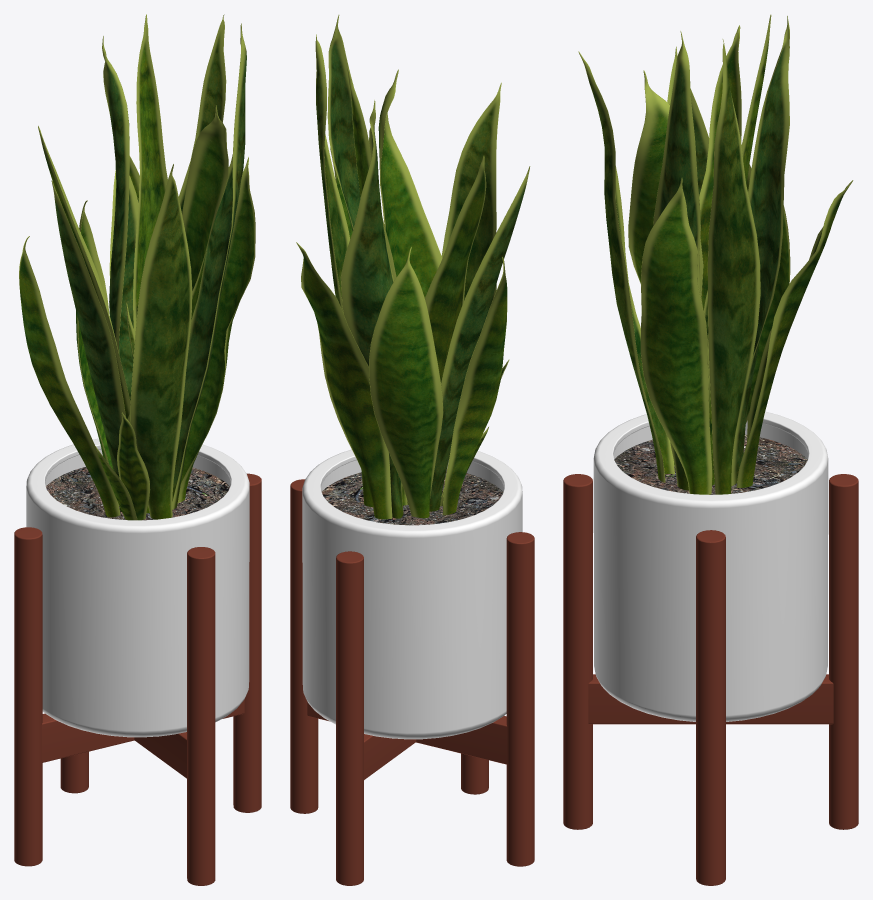
The model's file is PlantSansevieria.fbx.
3 views of the same model, side by side, from view 1: azimuth 30°, elevation 25°; view 2: azimuth 150°, elevation 25°; view 3: azimuth 270°, elevation 25° (orthographic). The views are drawn at different scales.
Parts seen in each view (by area): view 1: Flower_pot; view 2: Flower_pot; view 3: Flower_pot.
Boxes of the visible parts, bbox=[...] form: Flower_pot: bbox=[14, 14, 261, 885]; Flower_pot: bbox=[290, 15, 534, 885]; Flower_pot: bbox=[563, 14, 858, 885].
Bounding box in the file's own units: 27.36 × 85.69 × 27.36.
